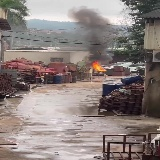fire: (93, 61, 106, 71)
